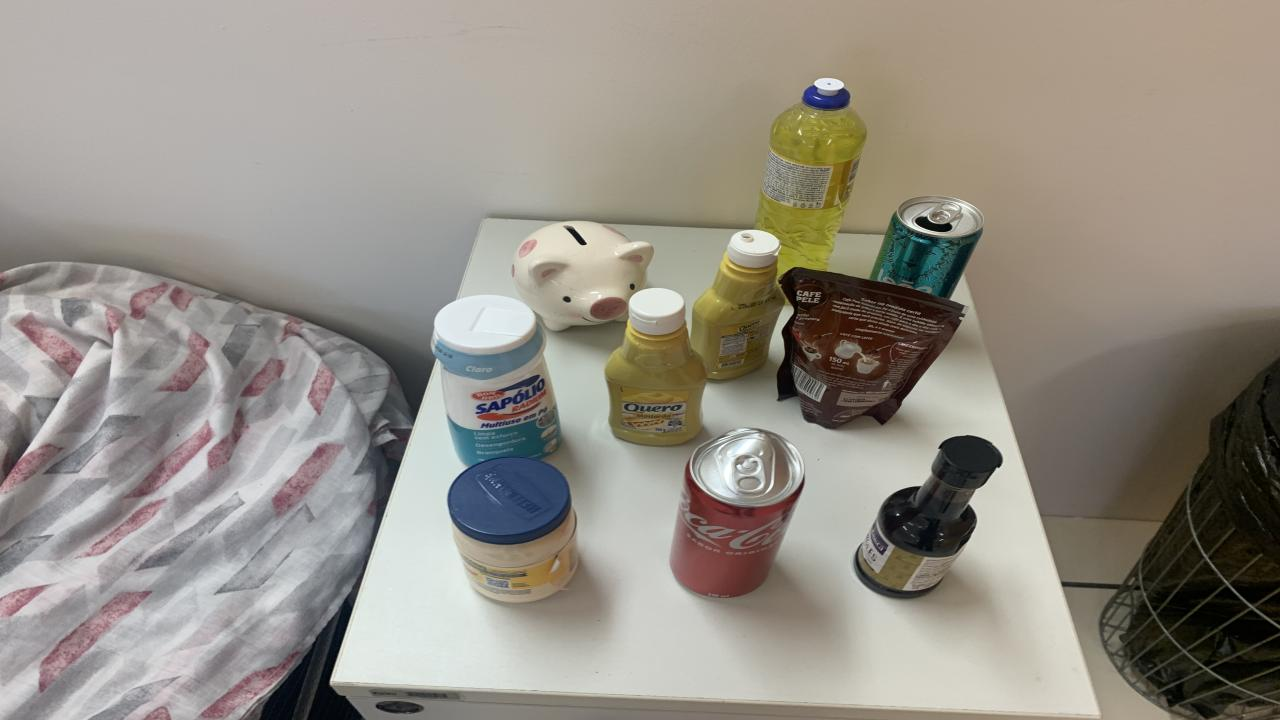Cleaner-Cleanup_Items: (432, 294, 560, 465)
Coffee-Pantry_Items: (778, 268, 965, 428)
Coke-Drinks: (670, 428, 805, 598)
Detergent-Cleanup_Items: (755, 77, 868, 274)
English_Sauce-Pantry_Items: (855, 435, 1002, 598)
Mayonnaise-Pantry_Items: (448, 456, 580, 602)
Mustard-Pantry_Items: (605, 287, 708, 446), (690, 229, 785, 381)
Pig_Safe-Miscellaneous: (512, 221, 655, 332)
Tea-Drinks: (870, 197, 985, 298)
